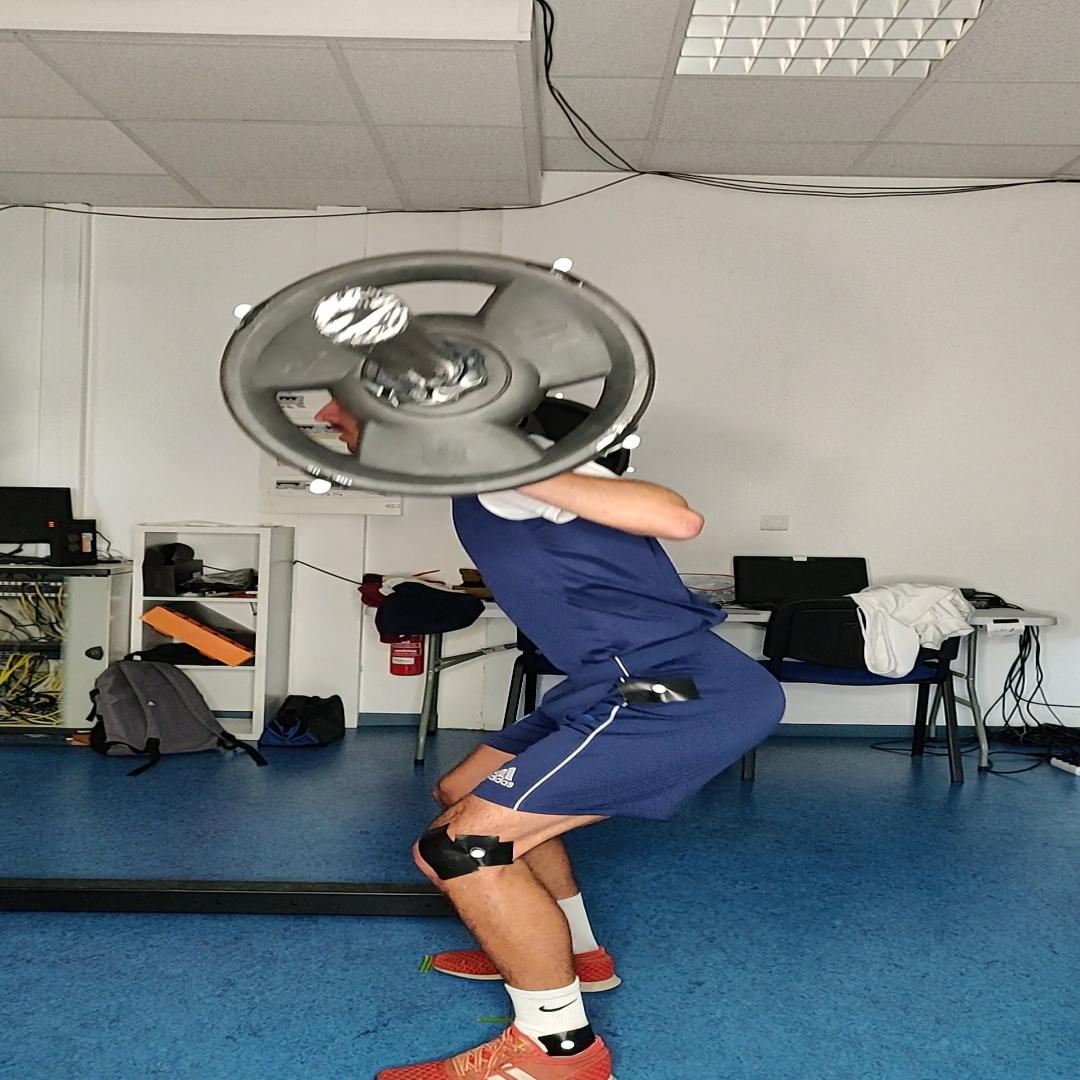Bar: (314, 286, 410, 345)
Barbell: (219, 250, 654, 496)
